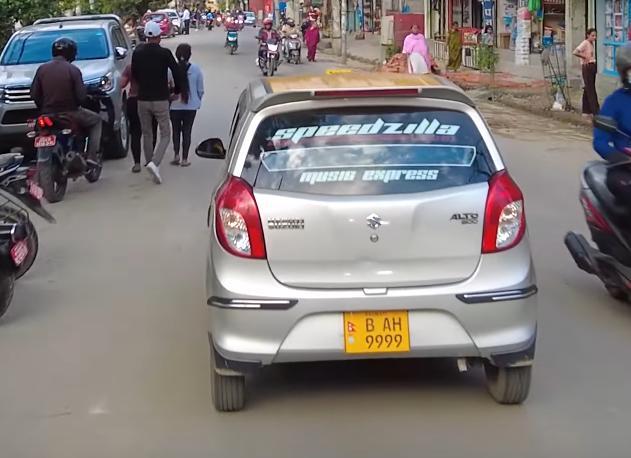bike: (25, 73, 115, 204), (250, 33, 284, 77)
scooter: (564, 107, 631, 311), (281, 28, 303, 65), (225, 25, 243, 59)
taxi: (189, 65, 575, 415)
